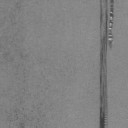slag inclusion: (99, 0, 114, 128)
